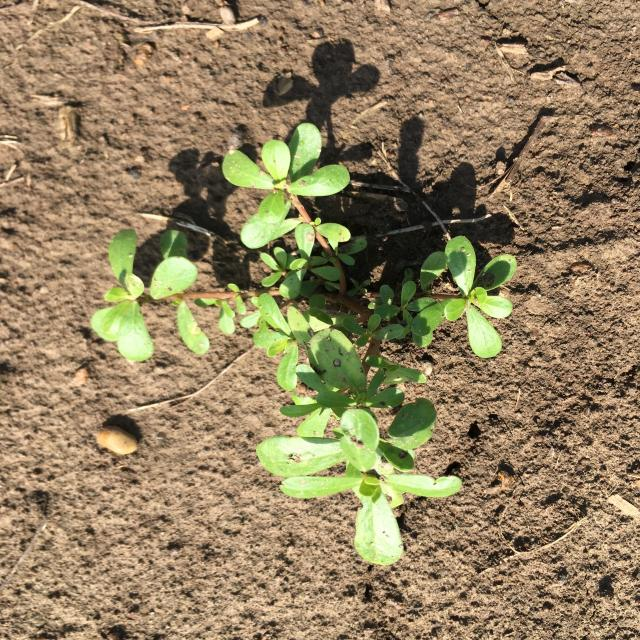Purslane: (91, 123, 518, 566)
